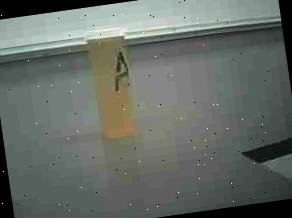Bottle A: (80, 20, 144, 146)
